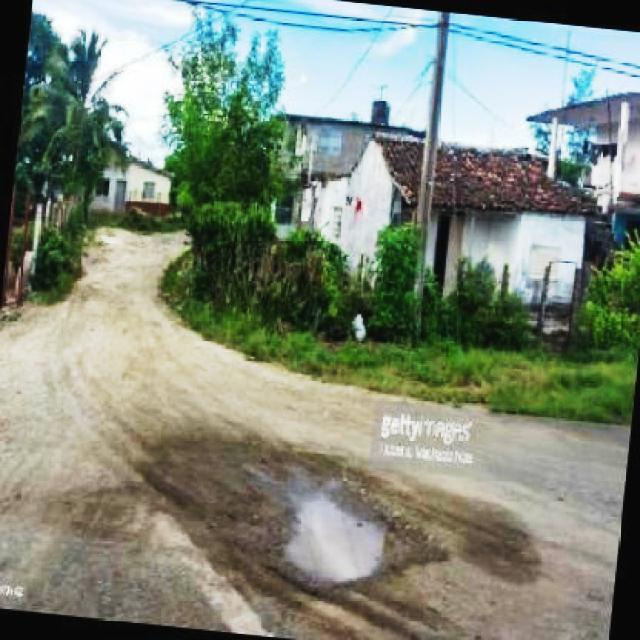pothole: (272, 471, 405, 586)
